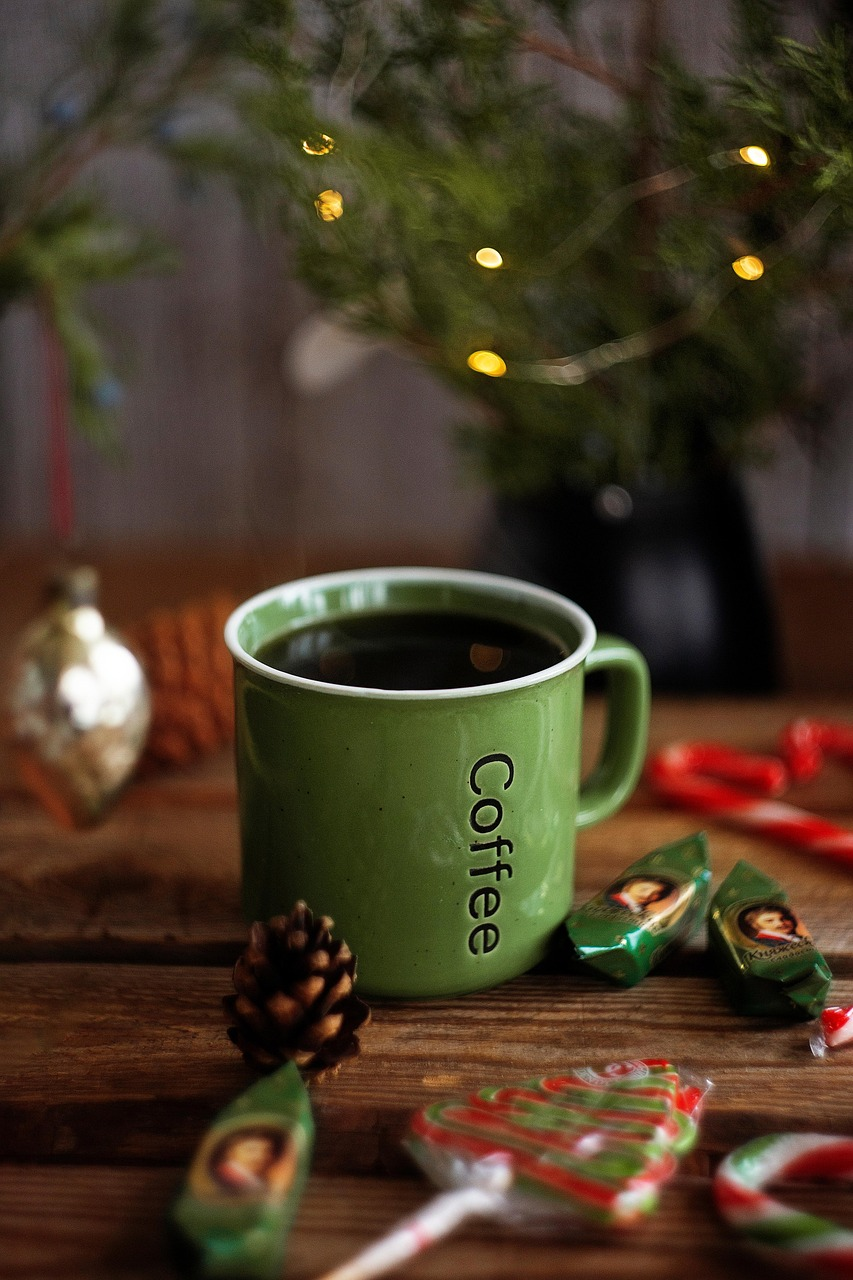mug: (203, 531, 730, 1057)
